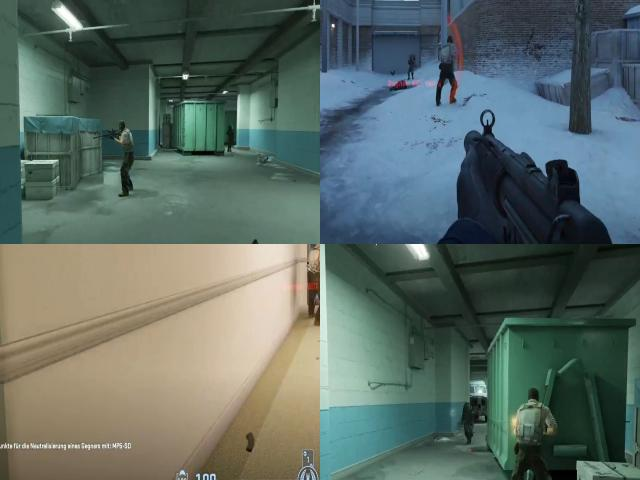CT: (408, 56, 417, 78)
CT-Head: (408, 55, 412, 62)
Dead: (456, 398, 476, 447), (389, 80, 411, 92)
T: (510, 394, 554, 462), (116, 117, 136, 165), (436, 40, 456, 80), (306, 244, 320, 282)
T-Head: (525, 384, 545, 412), (118, 120, 127, 135), (444, 35, 454, 47), (315, 244, 320, 251)
